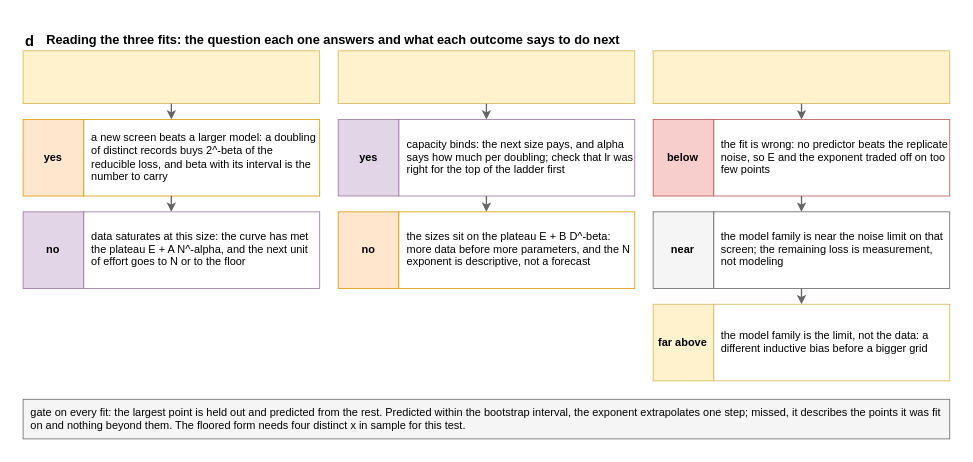
Image size: 973x462. Some labels were removed from this diagram. The shapes that lost their labels are listed below. From the top down, each one's centre as x and y in pixels, then its label:
At [170,76]: "Is the loss still falling with D at the full pool, on the matched read?".
At [486,76]: "Is the loss still falling with N at the full pool?".
At [800,76]: "Where does the fitted E sit against the replicate floor of each screen?".
